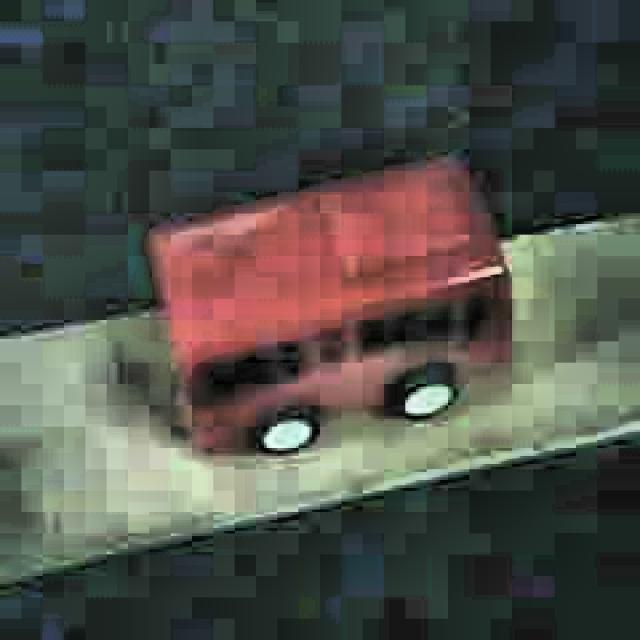bus: (150, 155, 512, 458)
